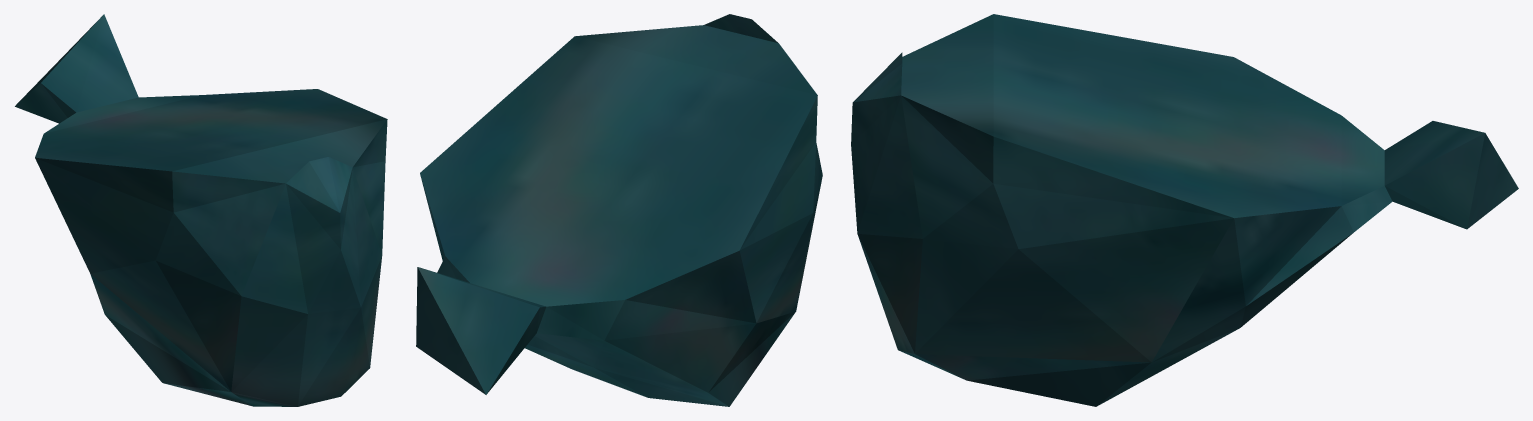
File: CHUSTA_NIE.glb
3 renders of one model, left to right at view 1: azimuth 30°, elevation 25°; view 2: azimuth 150°, elevation 25°; view 3: azimuth 270°, elevation 25°, orthographic. The views are drawn at different scales.
Parts seen in each view (by area): view 1: CHUSTA_NIE; view 2: CHUSTA_NIE; view 3: CHUSTA_NIE.
Part boxes in pixels (bbox=[...]): CHUSTA_NIE: bbox=[15, 14, 387, 406]; CHUSTA_NIE: bbox=[416, 14, 822, 406]; CHUSTA_NIE: bbox=[851, 14, 1518, 406].
Bounding box in the file's own units: 0.1928 × 0.18 × 0.3386.
Materials: 1 (1 with a texture image).
